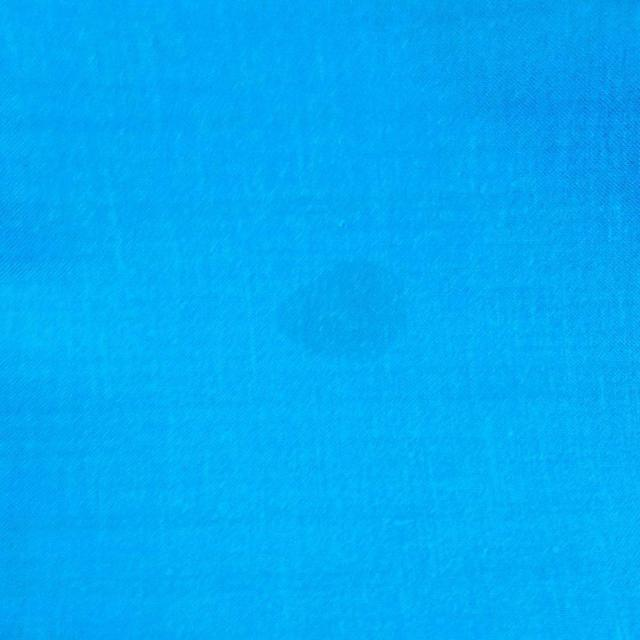stain: (265, 250, 417, 364)
